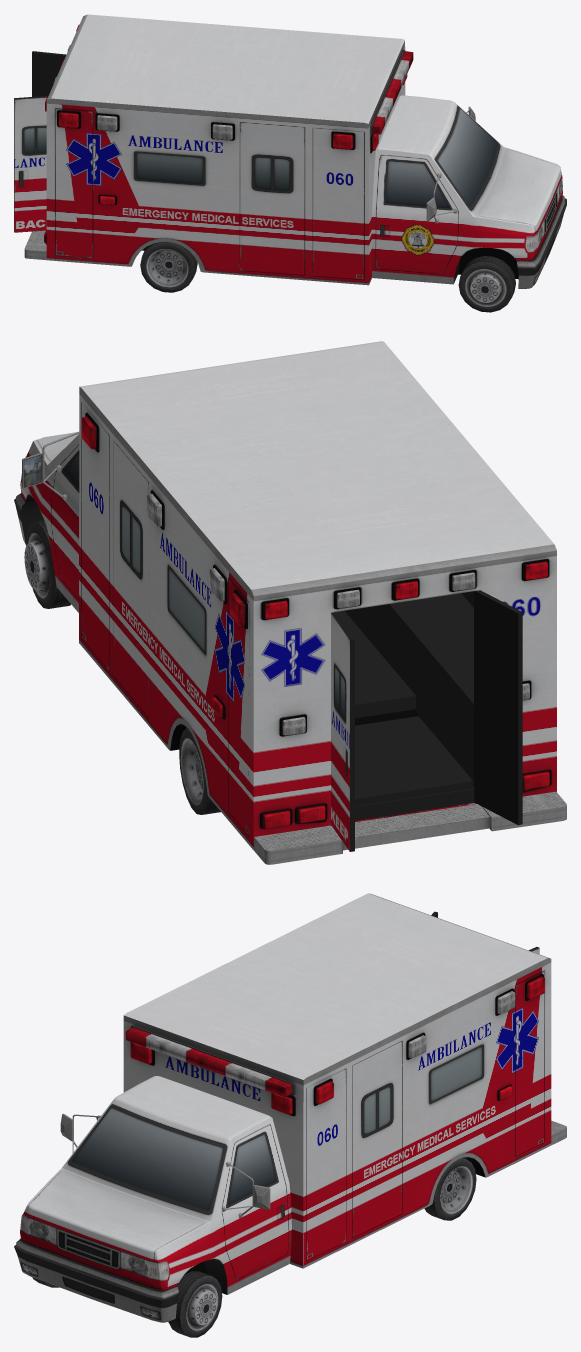
File: Ambulance_1.fbx
3 views of the same model, one above another, from view 1: azimuth 30°, elevation 25°; view 2: azimuth 150°, elevation 25°; view 3: azimuth 270°, elevation 25° (orthographic). The views are drawn at different scales.
Parts seen in each view (by area): view 1: amulans, Ambulance_1; view 2: amulans, Ambulance_1, Cube_3, Cube_2; view 3: amulans.
Boxes of the visible parts, <box> form: amulans: <box>24,14,566,312</box>; Ambulance_1: <box>14,51,65,232</box>; amulans: <box>14,341,566,864</box>; Ambulance_1: <box>331,590,522,851</box>; Cube_3: <box>355,716,474,820</box>; Cube_2: <box>336,610,415,718</box>; amulans: <box>14,893,566,1337</box>.
Size of the model in its own units: 1052 by 422 by 972.
Materials: 2 (1 with a texture image).
